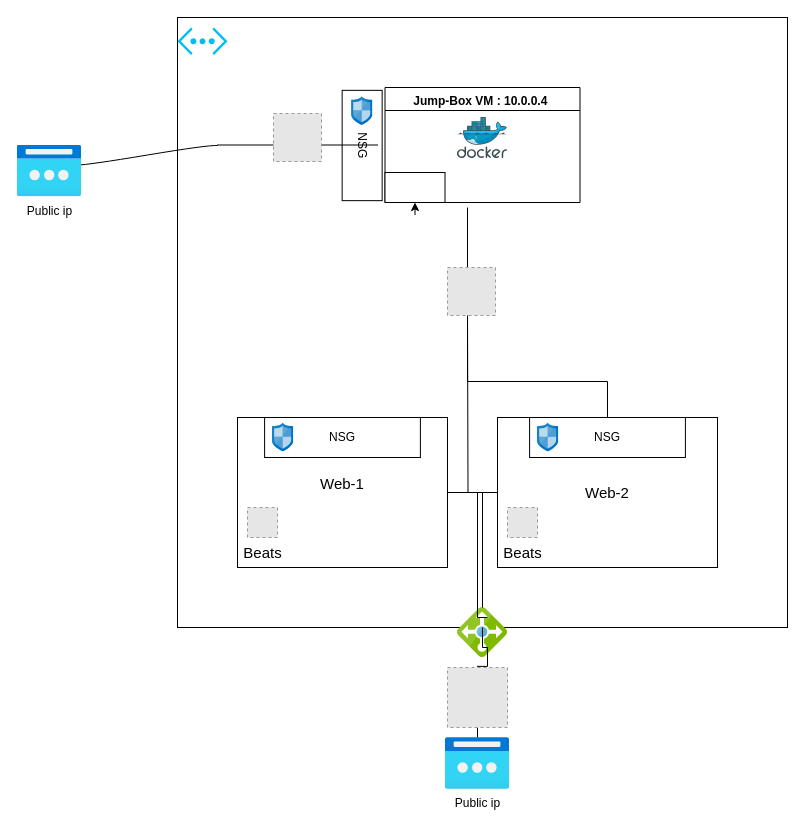
Some shapes in this 805 by 828 pixel diagram are drawn without their labels. Grey dashed boxes stand in for pictures. The shapes that lost their labels are listed below. From the top down, each one's centre as x and y in pixels, then its label:
point (202, 40): V-Net
point (414, 187): Ansible
point (482, 632): Load Balancer
